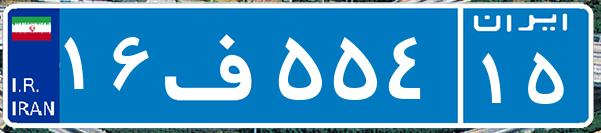1: (57, 26, 110, 107), (475, 38, 525, 113)
4: (385, 28, 445, 110)
5: (273, 28, 330, 110), (330, 28, 385, 110), (525, 38, 570, 115)
6: (110, 28, 158, 105)
ف: (158, 15, 273, 115)
